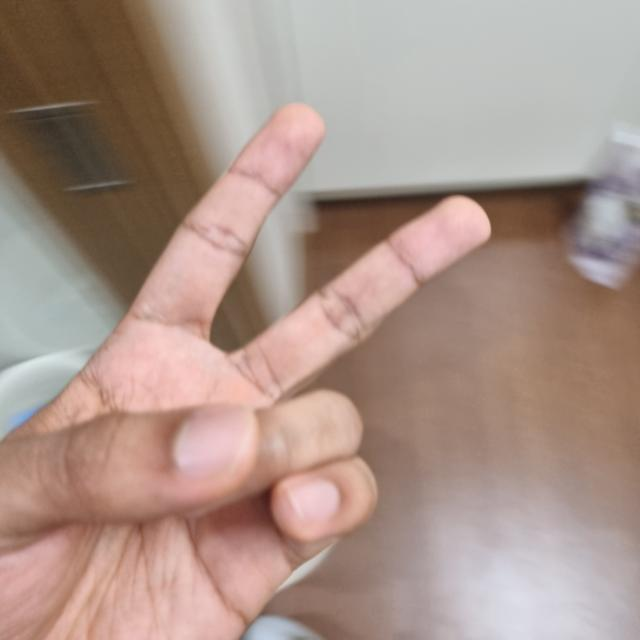Scissors: (0, 104, 487, 640)
